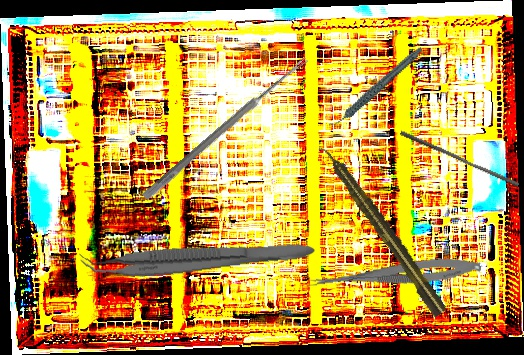Handpiece: (315, 140, 450, 319), (316, 46, 435, 128)
Micro Scissor: (306, 252, 482, 298)
Pusher: (397, 130, 522, 188)
Surgical Spoon: (141, 54, 310, 202)
Tissue Forceps: (77, 228, 316, 285)
